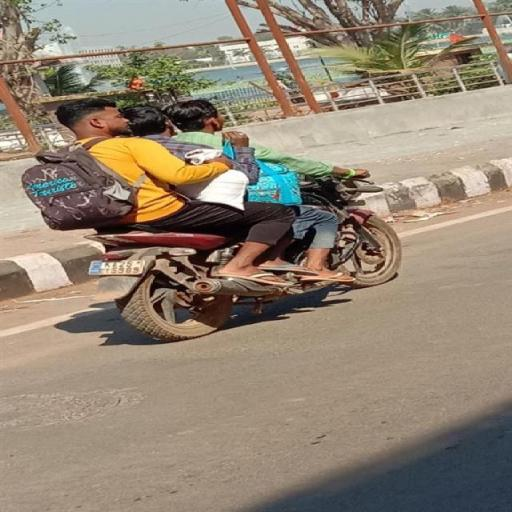tripple riding: (6, 67, 380, 253)
